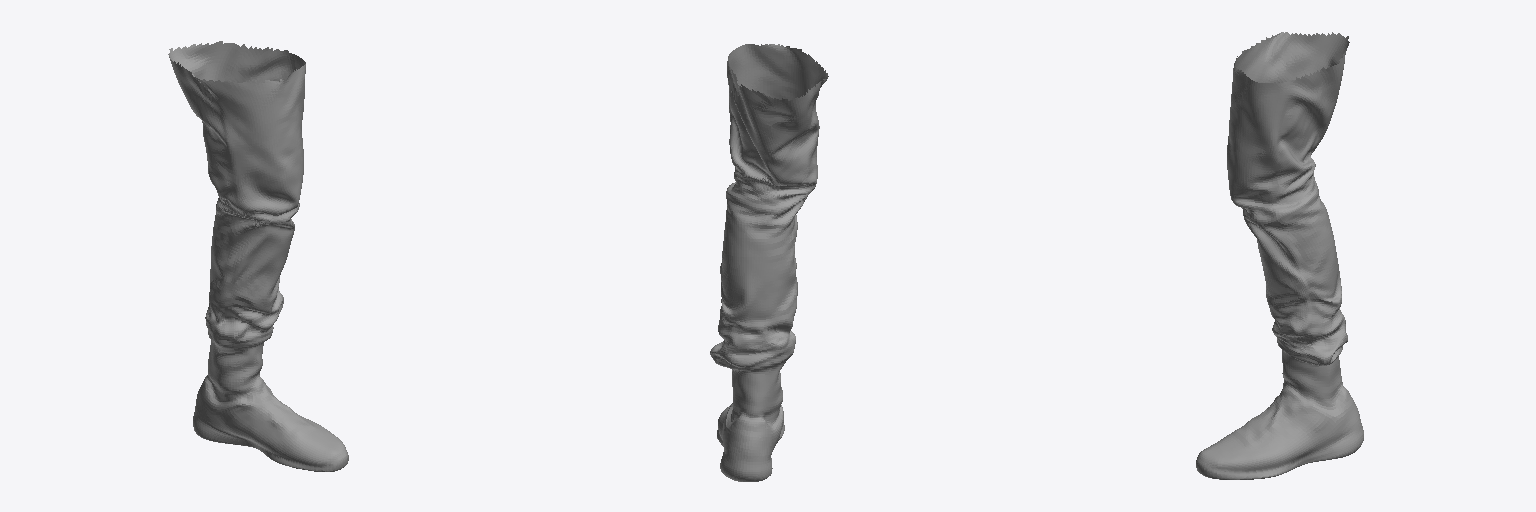
The model's file is piernaizq.obj.
The picture shows the model from 3 angles: view 1: azimuth 30°, elevation 25°; view 2: azimuth 150°, elevation 25°; view 3: azimuth 270°, elevation 25°; orthographic projection.
Visible parts, largest first — view 1: RUST_3d_Low.001_RUST_3d_Low.002; view 2: RUST_3d_Low.001_RUST_3d_Low.002; view 3: RUST_3d_Low.001_RUST_3d_Low.002.
Part boxes in pixels (x1,y1,x2,y2): RUST_3d_Low.001_RUST_3d_Low.002: (168, 41, 348, 471); RUST_3d_Low.001_RUST_3d_Low.002: (710, 44, 828, 481); RUST_3d_Low.001_RUST_3d_Low.002: (1196, 32, 1363, 479).
Size of the model in its own units: 21.87 by 66.19 by 25.93.